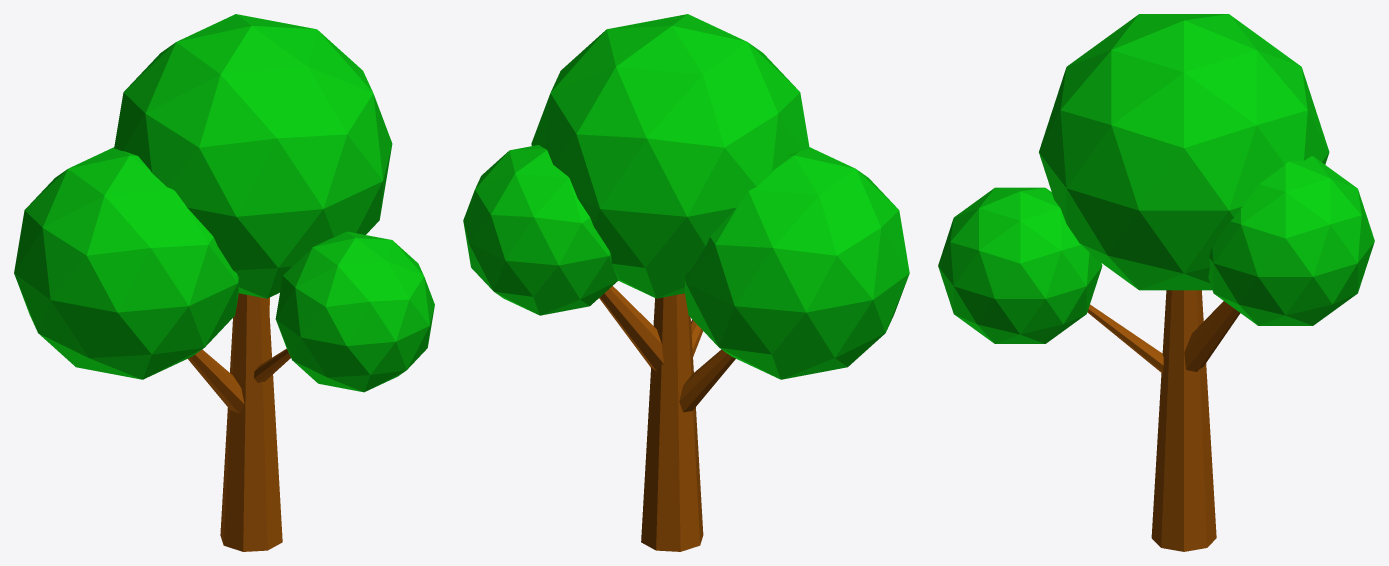
Rendered from tree.fbx.
3 views of the same model, side by side, from view 1: azimuth 30°, elevation 25°; view 2: azimuth 150°, elevation 25°; view 3: azimuth 270°, elevation 25° (orthographic).
Parts seen in each view (by area): view 1: Tree1, Tree2, Tree4, Stick, Stick2, Stick1; view 2: Tree1, Tree2, Tree3, Stick, Stick3, Stick2; view 3: Tree1, Tree3, Tree4, Stick, Stick3, Stick1.
Part boxes in pixels (left/top/right/bottom): Tree1: left=114, top=14, right=392, bottom=298; Tree2: left=14, top=147, right=239, bottom=379; Tree4: left=275, top=231, right=434, bottom=392; Stick: left=220, top=293, right=282, bottom=551; Stick2: left=188, top=349, right=244, bottom=413; Stick1: left=254, top=348, right=290, bottom=382; Tree1: left=531, top=14, right=809, bottom=298; Tree2: left=684, top=147, right=909, bottom=379; Tree3: left=463, top=145, right=619, bottom=315; Stick: left=641, top=293, right=703, bottom=551; Stick3: left=599, top=286, right=663, bottom=371; Stick2: left=679, top=349, right=735, bottom=412; Tree1: left=1039, top=14, right=1329, bottom=290; Tree3: left=1208, top=156, right=1374, bottom=325; Tree4: left=938, top=187, right=1102, bottom=343; Stick: left=1151, top=290, right=1216, bottom=551; Stick3: left=1184, top=301, right=1240, bottom=371; Stick1: left=1087, top=304, right=1163, bottom=373.
Size of the model in its own units: 1304 by 1755 by 1342.
